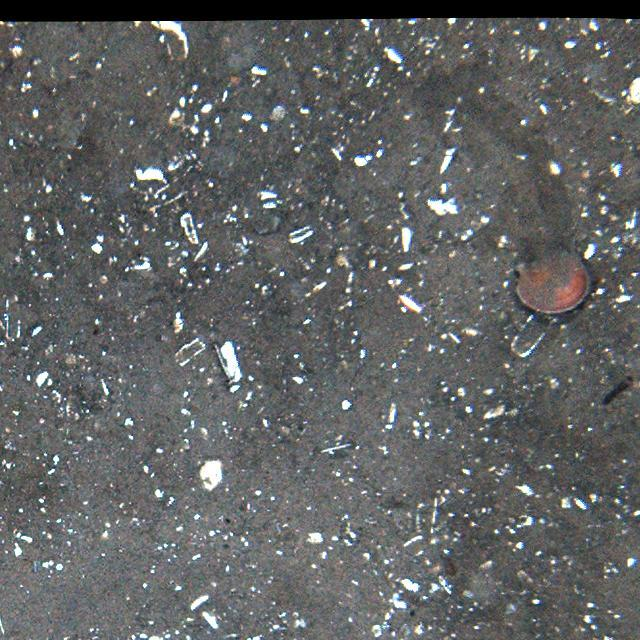scallop: (507, 241, 592, 317)
